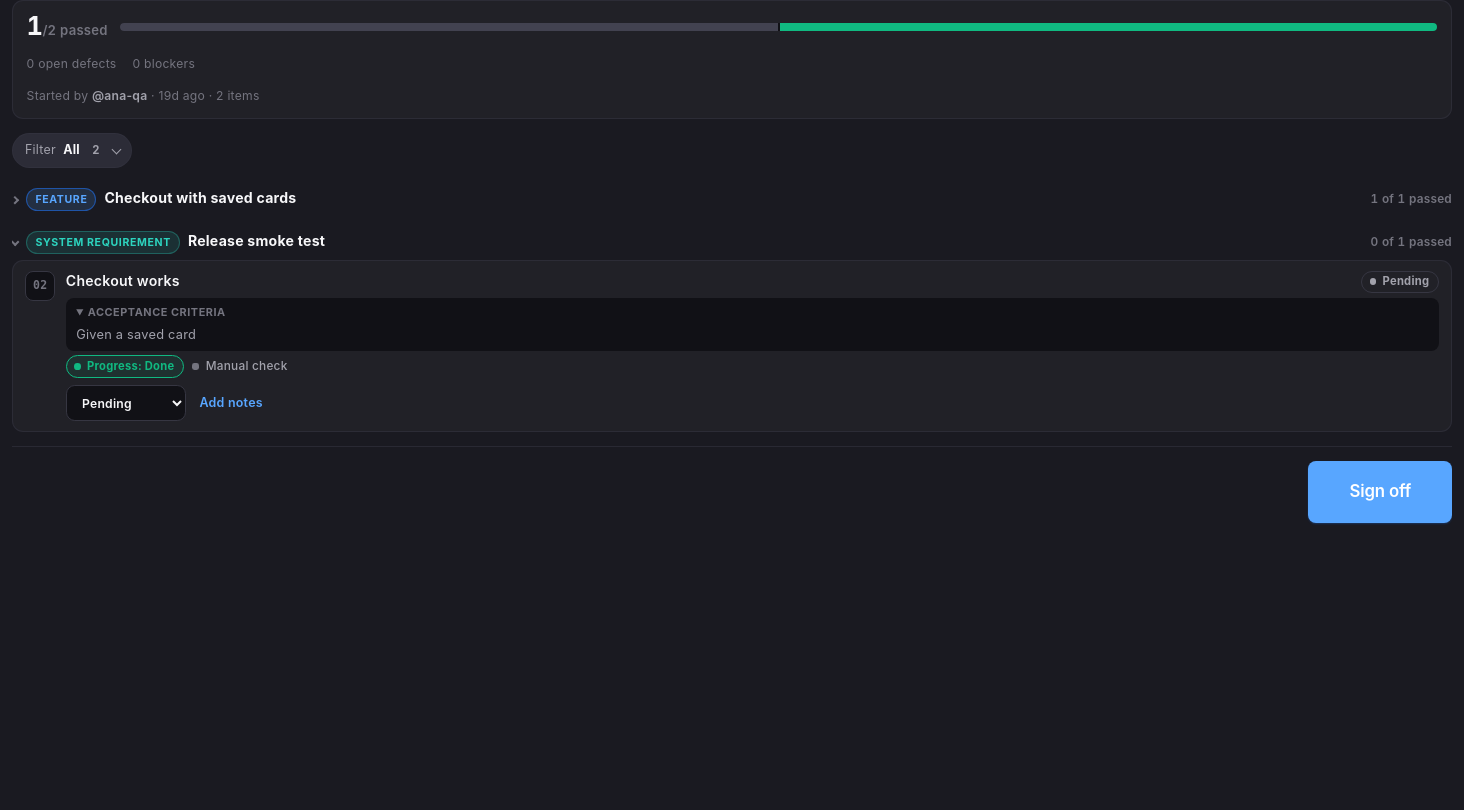
ProjectRunPanel › folds a fully passed requirement and filters to what is left to verify
Click the button "Feature Checkout with saved cards" at (154, 198), box [12, 186, 296, 211]
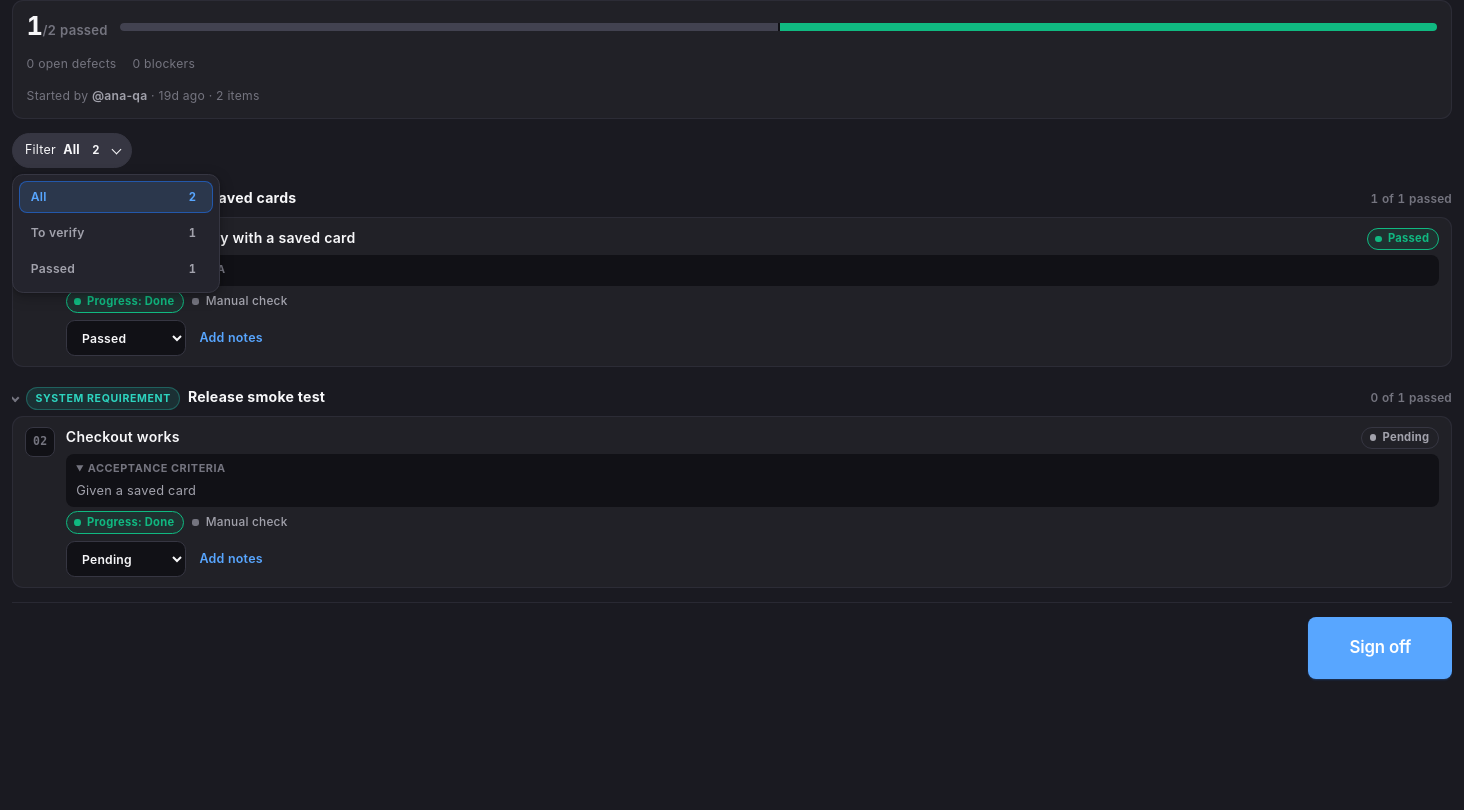
Expected: the heading "Filter All 2" is shown, [12, 133, 132, 168]
Click the button with class "filter-menu__option" showing "To verify 1" at (116, 233), box [19, 217, 213, 249]
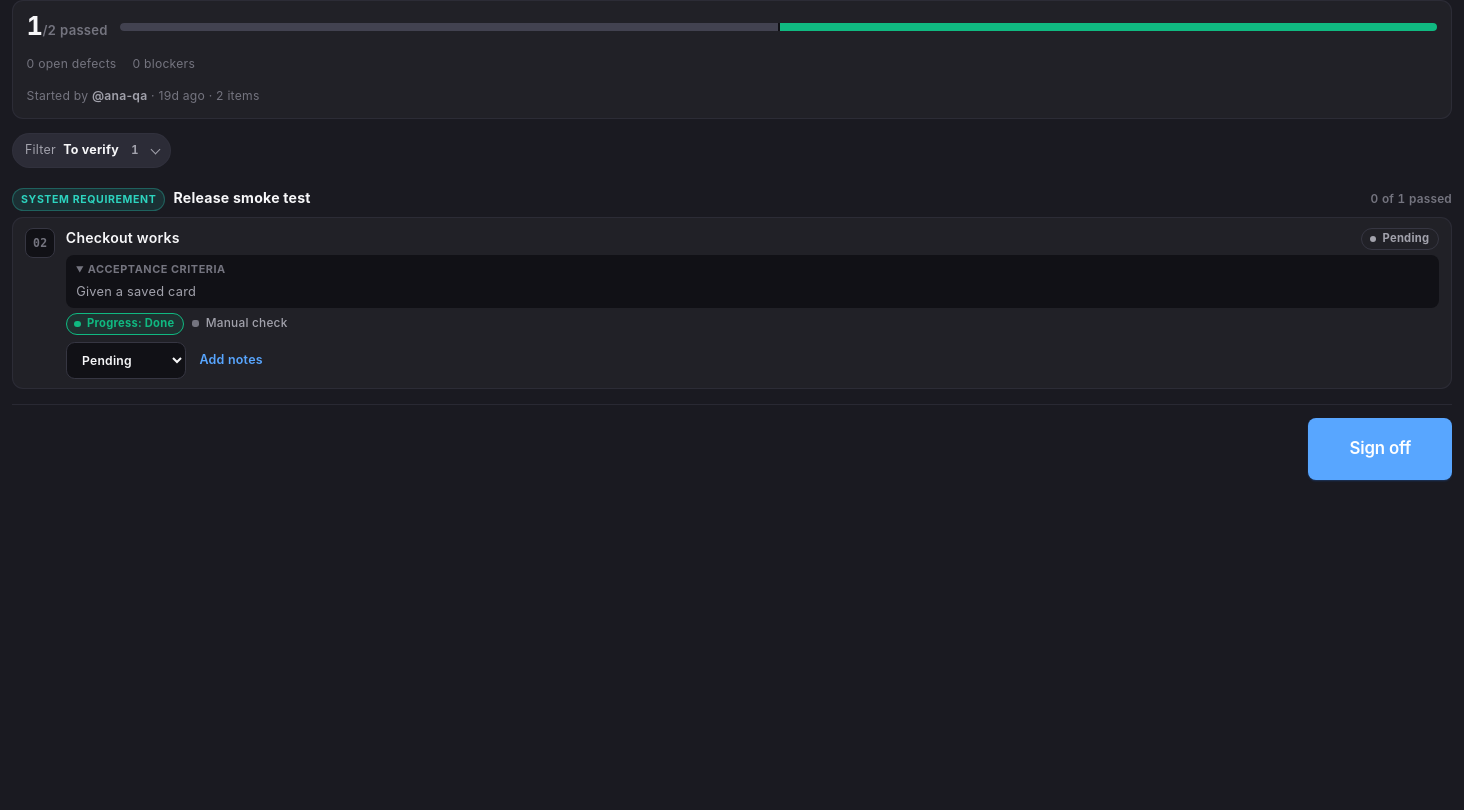
Expected: the element showing "Started by @ana-qa · 19d ago · 2 items" is shown, [27, 88, 260, 103]
Expected: the heading "Filter To verify 1" is shown, [12, 133, 171, 168]
Expected: the button "Feature Checkout with saved cards" is gone
